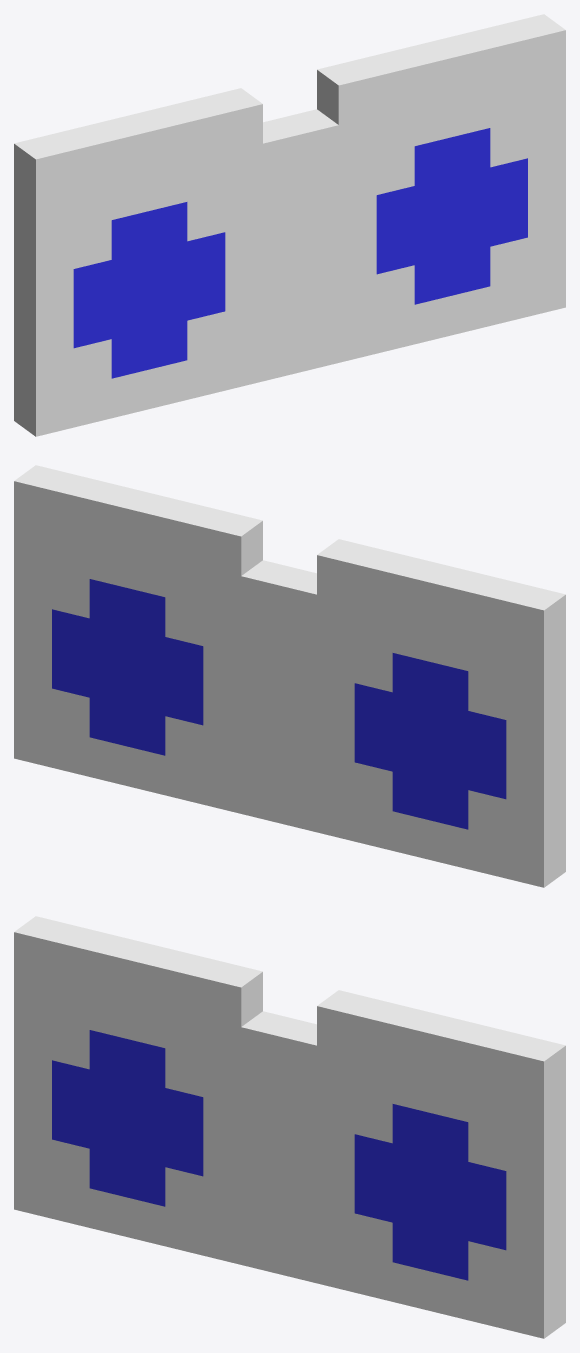
3 renders of one model, top to bottom at view 1: azimuth 30°, elevation 25°; view 2: azimuth 150°, elevation 25°; view 3: azimuth 330°, elevation 25°, orthographic.
Visible parts, largest first — view 1: eye-shapes077, eye-shapes046; view 2: eye-shapes077, eye-shapes046; view 3: eye-shapes077, eye-shapes046.
Part boxes in pixels (left/top/right/bottom): eye-shapes077: left=14, top=14, right=565, bottom=436; eye-shapes046: left=73, top=128, right=527, bottom=378; eye-shapes077: left=14, top=465, right=565, bottom=887; eye-shapes046: left=52, top=579, right=506, bottom=829; eye-shapes077: left=14, top=916, right=565, bottom=1338; eye-shapes046: left=52, top=1030, right=506, bottom=1280.
Size of the model in its own units: 140 by 70 by 10.
Materials: 2 (2 with a texture image).
